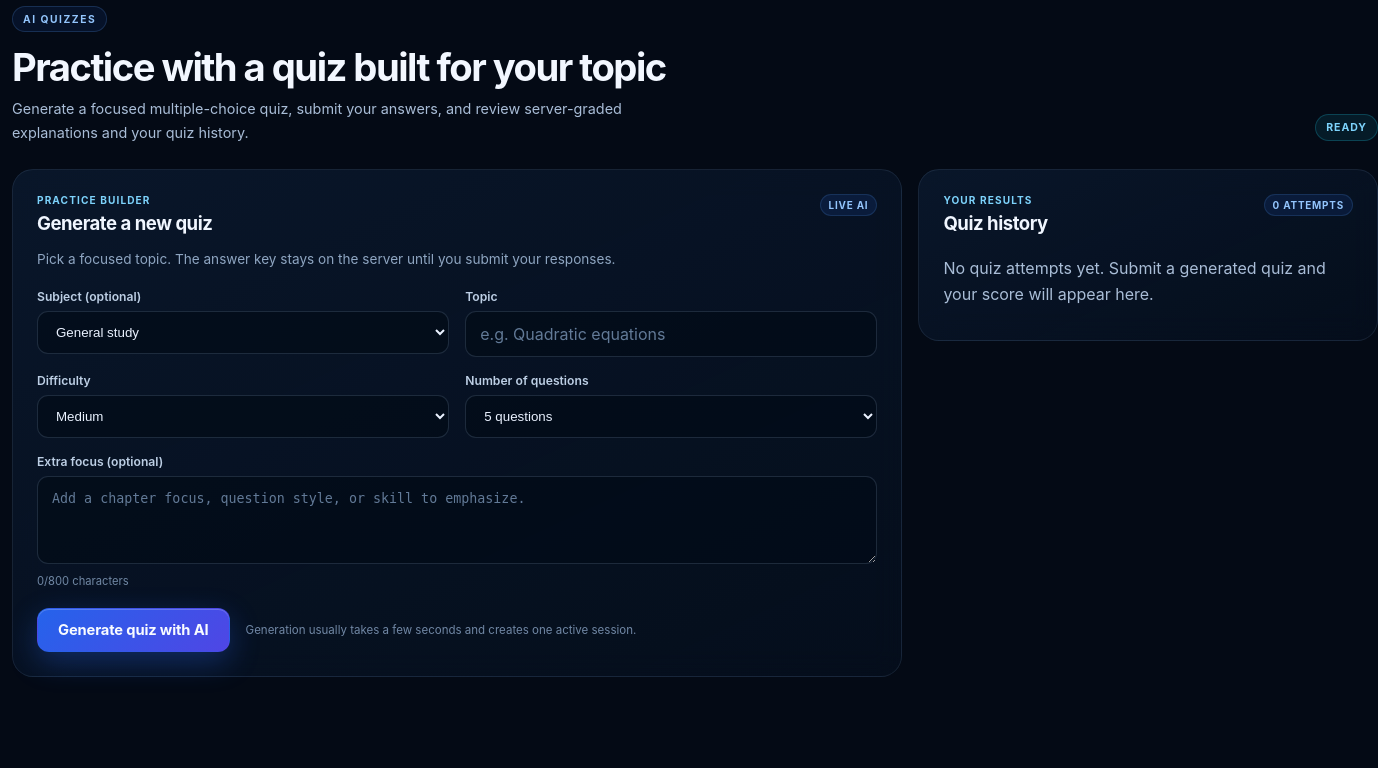
Test case: quiz page › shows a friendly error when quiz generation fails
In the field with placeholder "e.g. Quadratic equations": [671, 334] box [465, 311, 877, 357], type "Mechanics"
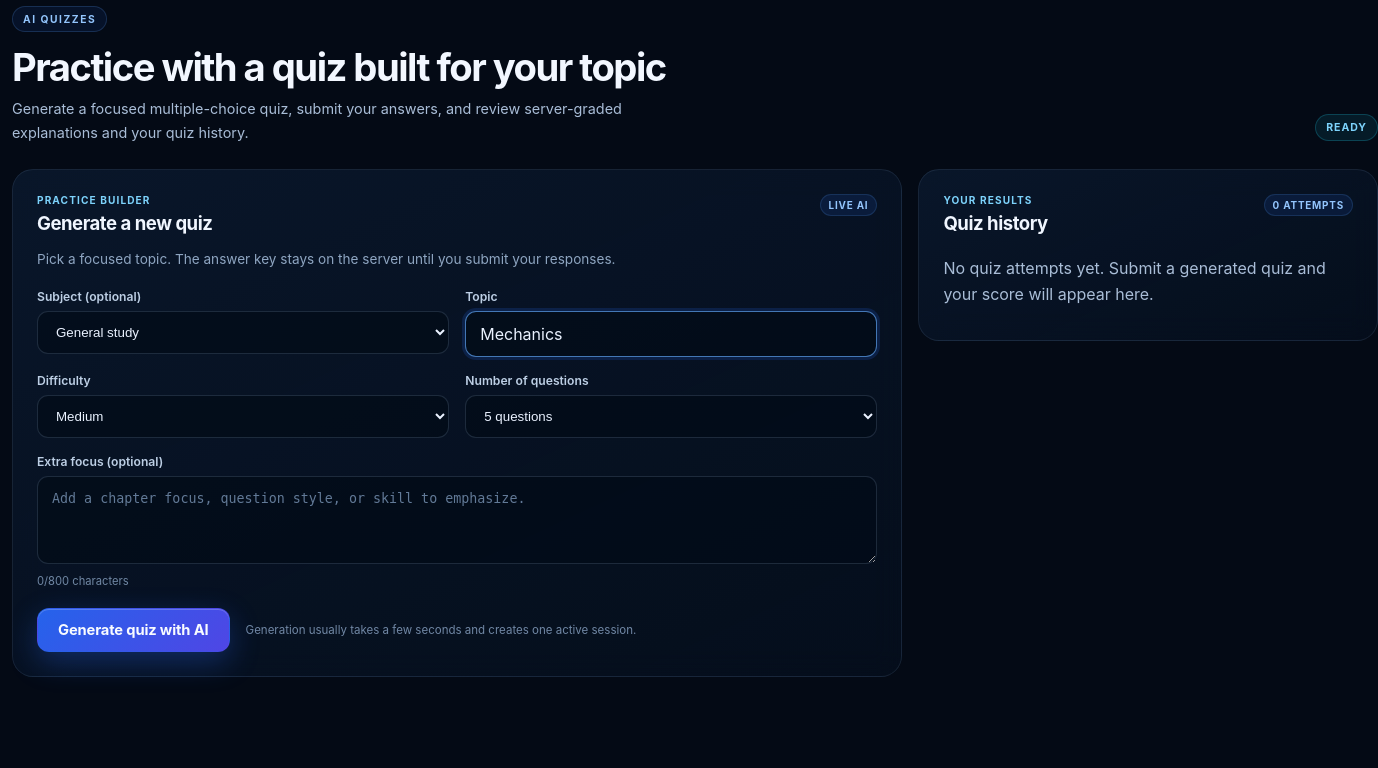
Click the button "Generate quiz with AI": [133, 630] box [37, 608, 230, 652]
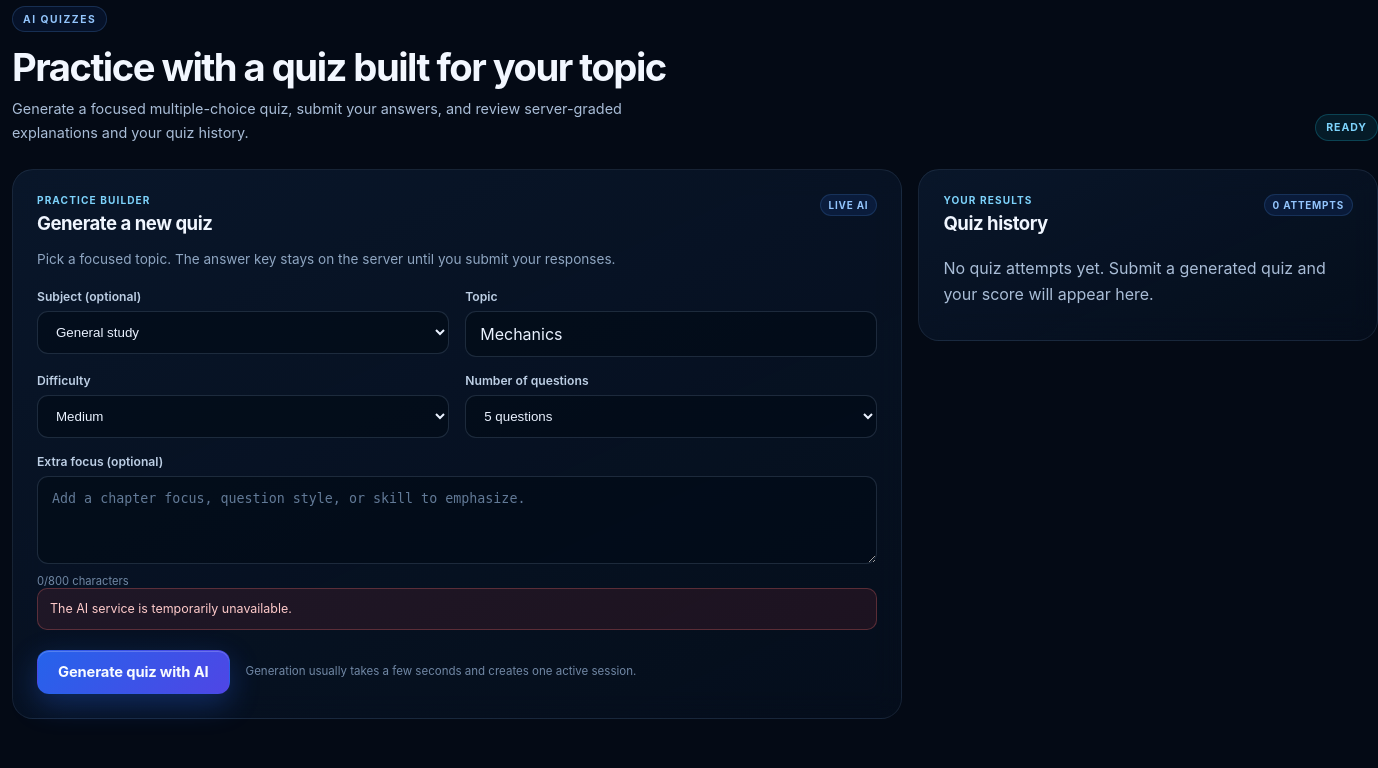
Result: the message reads "The AI service is temporarily unavailable." at [50, 601, 292, 616]
